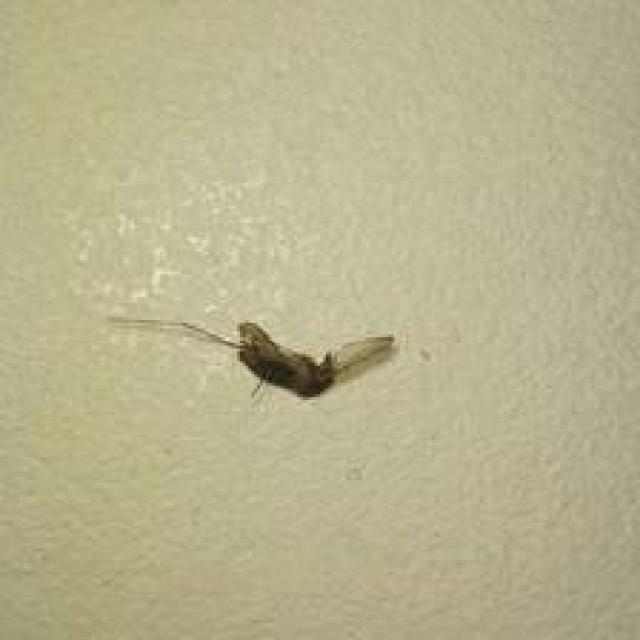Culex: (106, 313, 397, 404)
